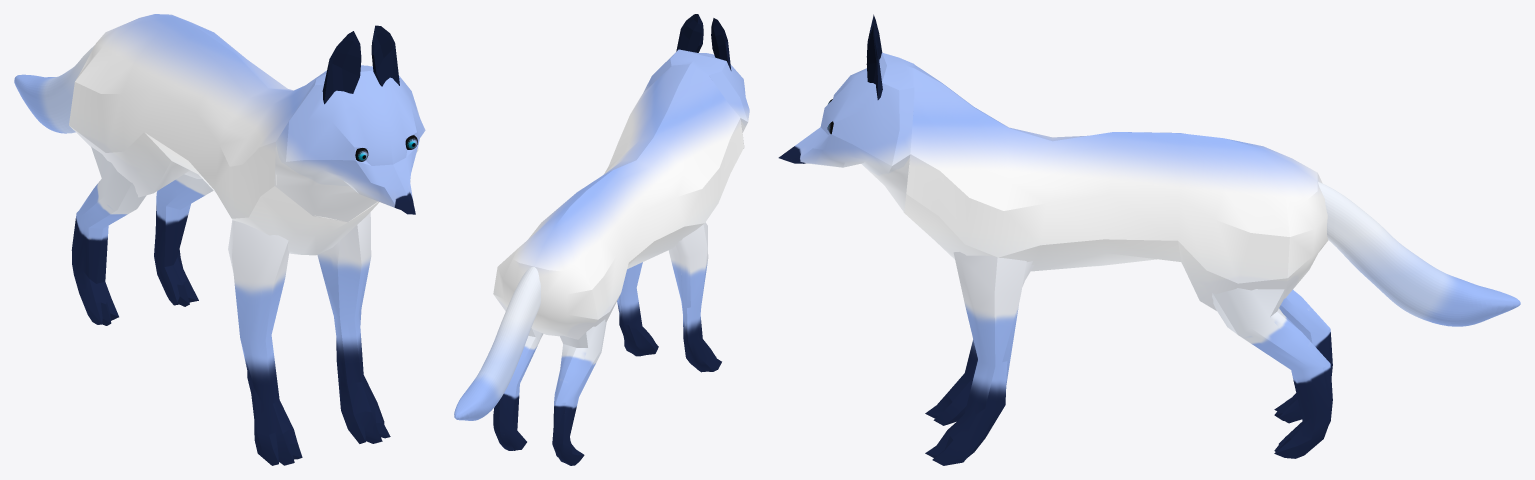
File: ice_fox.glb
The picture shows the model from 3 angles, left to right: view 1: azimuth 30°, elevation 25°; view 2: azimuth 150°, elevation 25°; view 3: azimuth 270°, elevation 25°; orthographic projection. The views are drawn at different scales.
Parts seen in each view (by area): view 1: Body, Head, Right Front Leg, Left Front Leg, Right Back Leg, Left Back Leg, Ears, Tail; view 2: Body, Tail, Right Front Leg, Right Back Leg, Head, Left Back Leg, Left Front Leg, Ears; view 3: Body, Head, Tail, Left Front Leg, Left Back Leg, Right Back Leg, Right Front Leg, Ears.
Boxes of the visible parts, <box> form: Body: <box>69,14,418,255</box>; Head: <box>274,65,425,222</box>; Right Front Leg: <box>228,220,302,465</box>; Left Front Leg: <box>317,212,390,443</box>; Right Back Leg: <box>71,146,146,325</box>; Left Back Leg: <box>154,174,213,306</box>; Ears: <box>322,25,399,104</box>; Tail: <box>14,45,94,133</box>; Body: <box>493,64,743,339</box>; Tail: <box>454,267,540,420</box>; Right Front Leg: <box>668,222,721,372</box>; Right Back Leg: <box>552,319,606,465</box>; Head: <box>643,49,749,148</box>; Left Back Leg: <box>493,328,543,450</box>; Left Front Leg: <box>617,262,658,356</box>; Ears: <box>676,14,731,70</box>; Body: <box>904,64,1328,310</box>; Head: <box>778,52,914,213</box>; Tail: <box>1318,181,1520,326</box>; Left Front Leg: <box>925,252,1034,465</box>; Left Back Leg: <box>1212,288,1332,458</box>; Right Back Leg: <box>1274,290,1332,423</box>; Right Front Leg: <box>925,339,977,425</box>; Ears: <box>866,14,882,99</box>.
Bounding box in the file's own units: 0.9111 × 2.71 × 4.32.
Materials: 7 (7 with a texture image).
